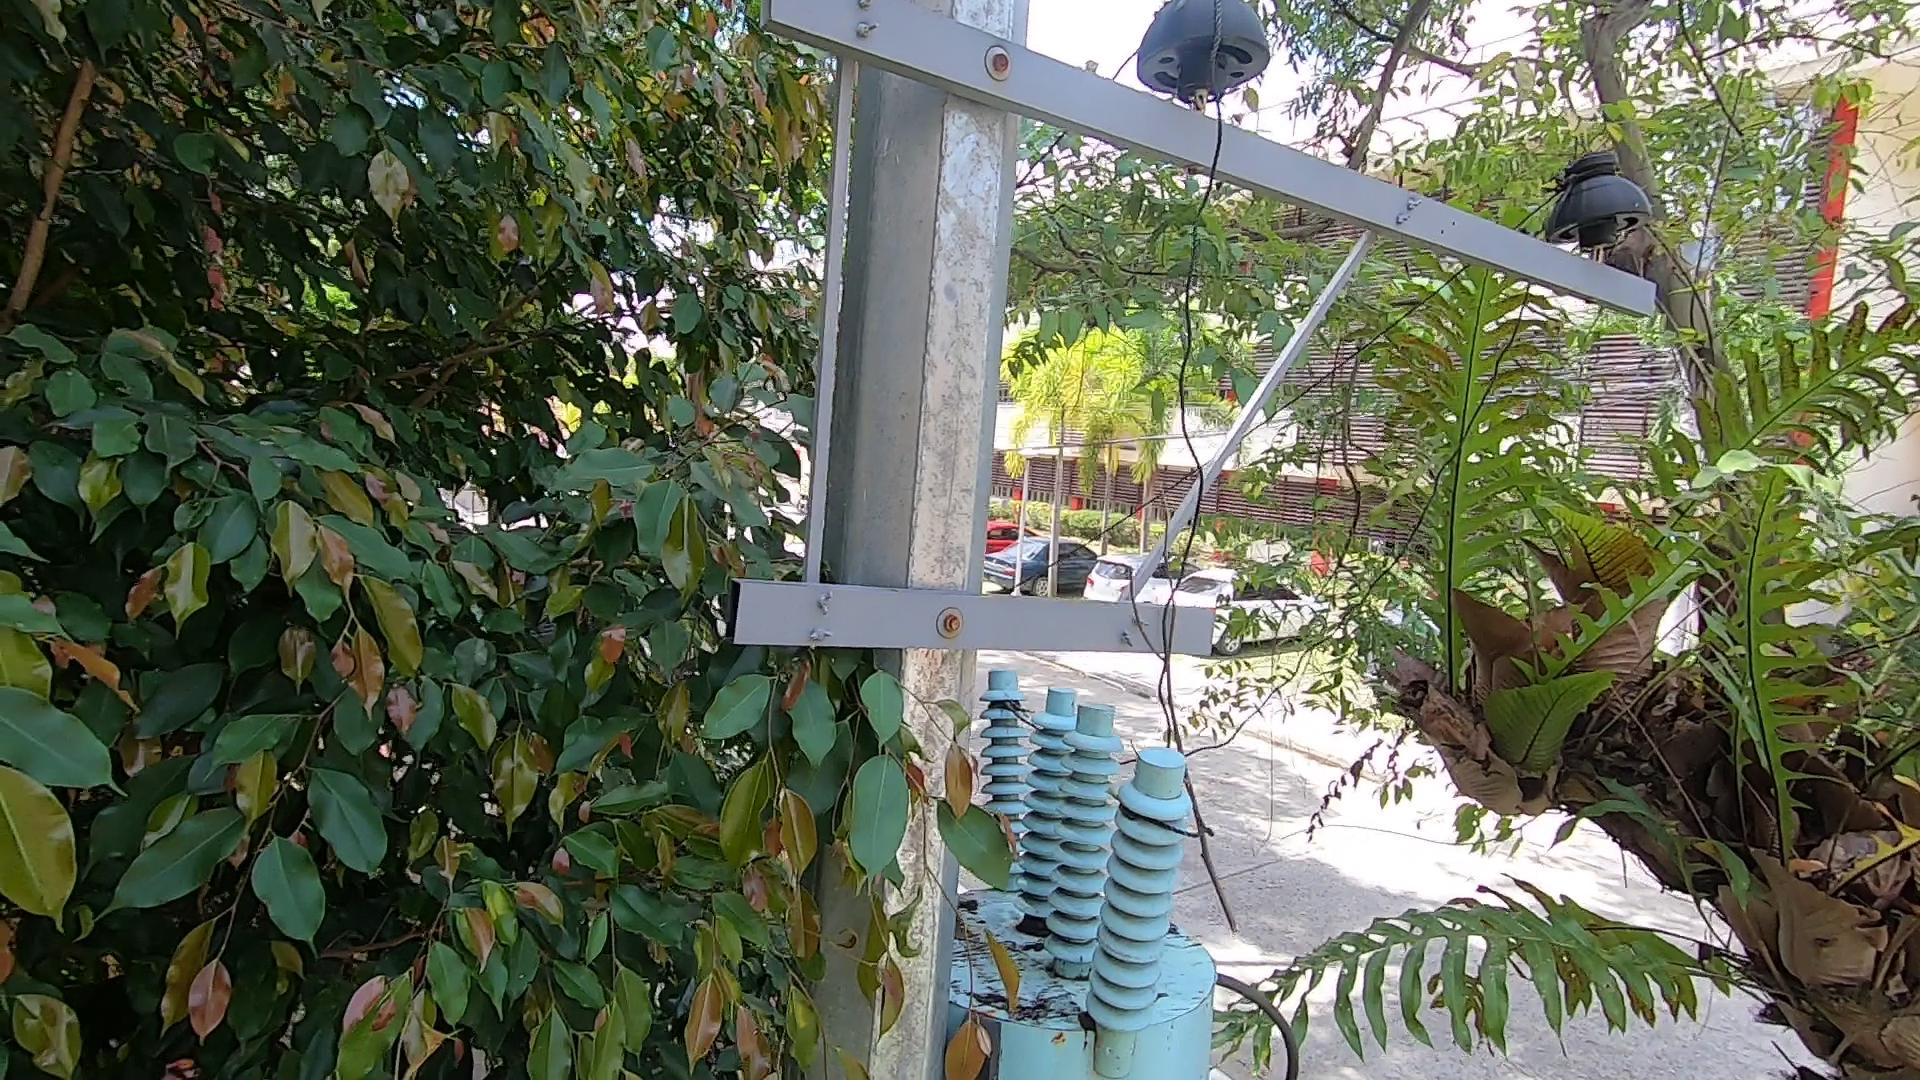tree branch: (1095, 469, 1267, 918)
